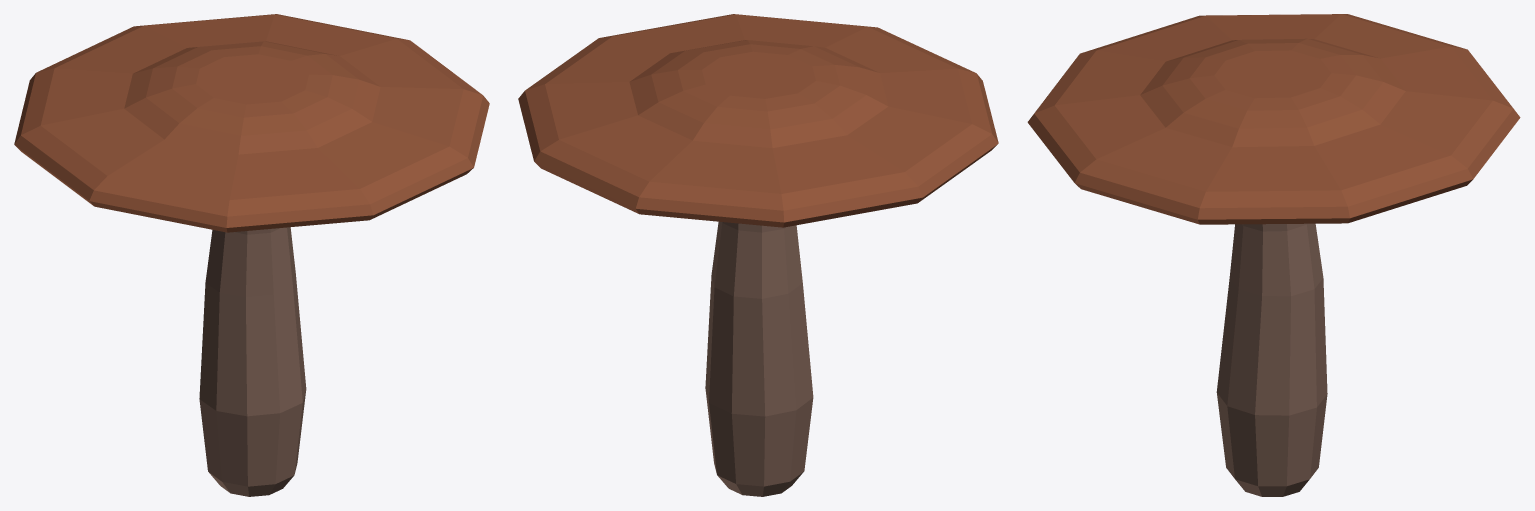
Rendered from Msuhroom Complete.fbx.
The picture shows the model from 3 angles, left to right: view 1: azimuth 30°, elevation 25°; view 2: azimuth 150°, elevation 25°; view 3: azimuth 270°, elevation 25°; orthographic projection.
Visible parts, largest first — view 1: Cylinder; view 2: Cylinder; view 3: Cylinder.
Part boxes in pixels (x1,y1,x2,y2): Cylinder: (14, 14, 489, 496); Cylinder: (518, 14, 998, 496); Cylinder: (1027, 14, 1520, 496).
Size of the model in its own units: 181 by 175 by 190.
